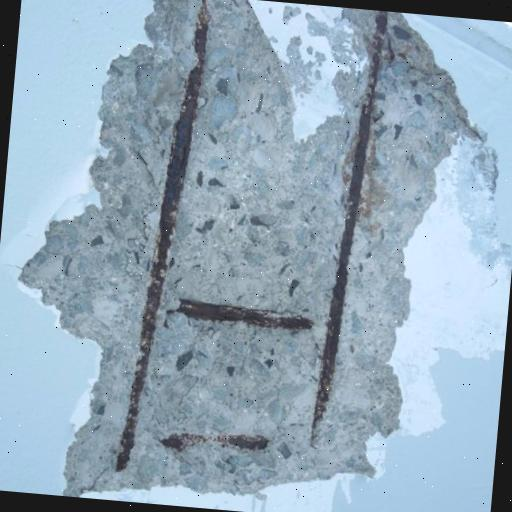spalling: (19, 0, 496, 494)
